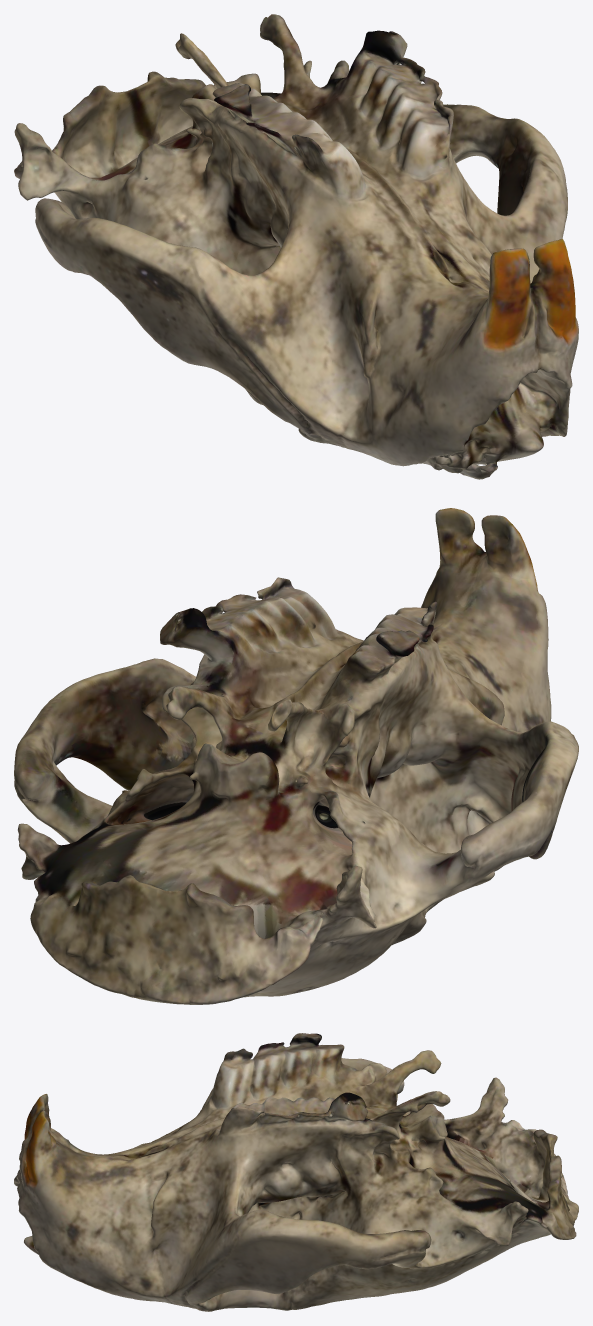
The model's file is FINALSCANCraniumBeaver53-100k-ar.glb.
The picture shows the model from 3 angles, top to bottom: view 1: azimuth 30°, elevation 25°; view 2: azimuth 150°, elevation 25°; view 3: azimuth 270°, elevation 25°; orthographic projection. The views are drawn at different scales.
Size of the model in its own units: 77.29 by 49.88 by 109.
Materials: 1 (1 with a texture image).
